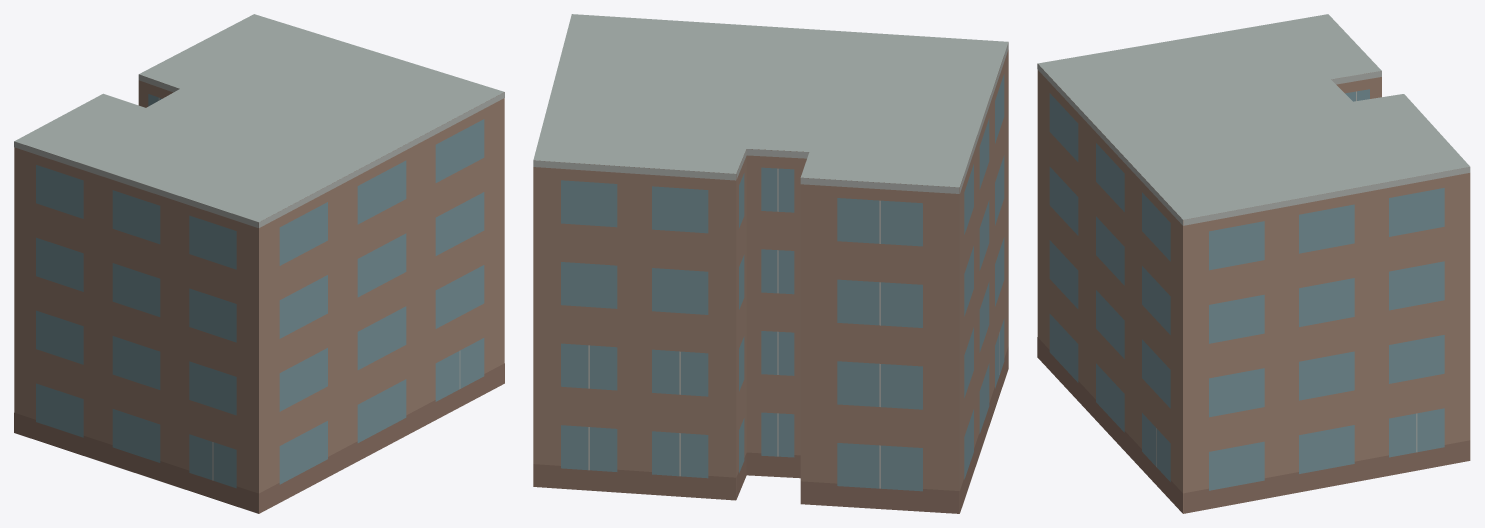
Rendered from survey-upis-32817876.glb.
3 views of the same model, side by side, from view 1: azimuth 30°, elevation 25°; view 2: azimuth 150°, elevation 25°; view 3: azimuth 270°, elevation 25° (orthographic). The views are drawn at different scales.
Visible parts, largest first — view 1: survey-upis-32817876.tmp; view 2: survey-upis-32817876.tmp; view 3: survey-upis-32817876.tmp.
Part boxes in pixels (box(x1,y1,x2,y2)): survey-upis-32817876.tmp: box(14, 14, 504, 513); survey-upis-32817876.tmp: box(533, 14, 1008, 513); survey-upis-32817876.tmp: box(1037, 14, 1470, 513).
Bounding box in the file's own units: 17.95 × 11.95 × 15.95.
